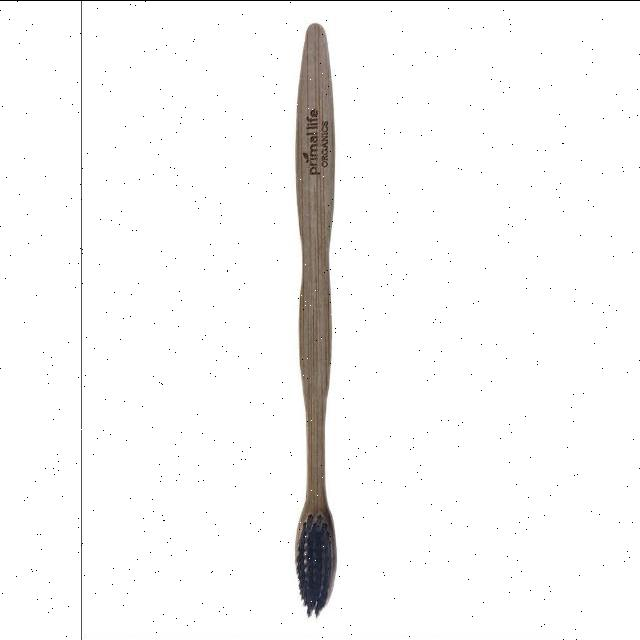toothbrush: (272, 0, 366, 634)
